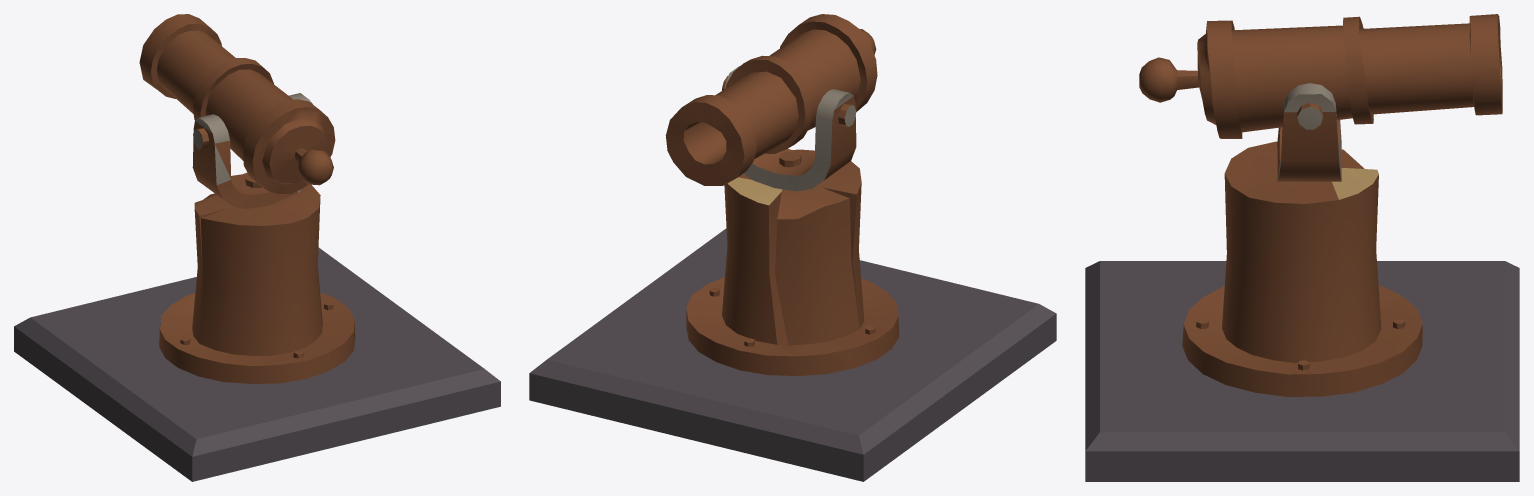
Rendered from cannon.glb.
3 renders of one model, left to right at view 1: azimuth 30°, elevation 25°; view 2: azimuth 150°, elevation 25°; view 3: azimuth 270°, elevation 25°, orthographic. The views are drawn at different scales.
Visible parts, largest first — view 1: plate, mount, barrel; view 2: plate, mount, barrel; view 3: plate, mount, barrel.
Boxes of the visible parts, left/top/right/bottom form: plate: left=14, top=247, right=500, bottom=481; mount: left=159, top=93, right=355, bottom=383; barrel: left=139, top=14, right=335, bottom=193; plate: left=529, top=228, right=1056, bottom=481; mount: left=686, top=66, right=899, bottom=376; barrel: left=665, top=14, right=877, bottom=185; plate: left=1085, top=261, right=1519, bottom=481; mount: left=1182, top=83, right=1422, bottom=396; barrel: left=1139, top=14, right=1502, bottom=138.
Bounding box in the file's own units: 0.9 × 0.8521 × 0.9.
